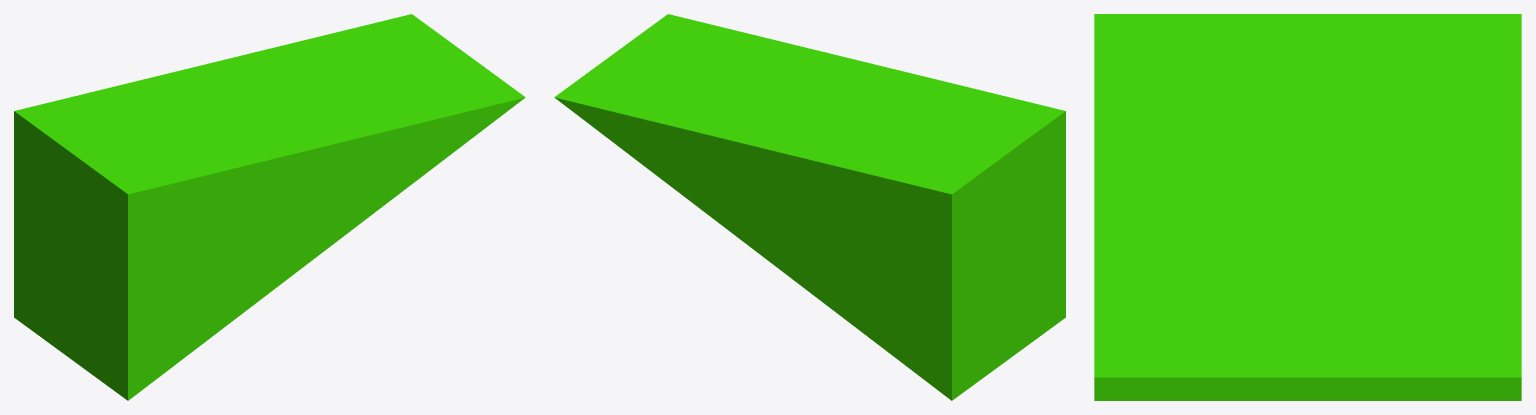
The model's file is Slope.fbx.
3 views of the same model, side by side, from view 1: azimuth 30°, elevation 25°; view 2: azimuth 150°, elevation 25°; view 3: azimuth 270°, elevation 25° (orthographic). The views are drawn at different scales.
Parts seen in each view (by area): view 1: pCube1; view 2: pCube1; view 3: pCube1.
Part boxes in pixels (<box>): pCube1: <box>14,14,525,400</box>; pCube1: <box>554,14,1065,400</box>; pCube1: <box>1094,14,1521,400</box>.
Size of the model in its own units: 24.24 by 12.03 by 12.03.
